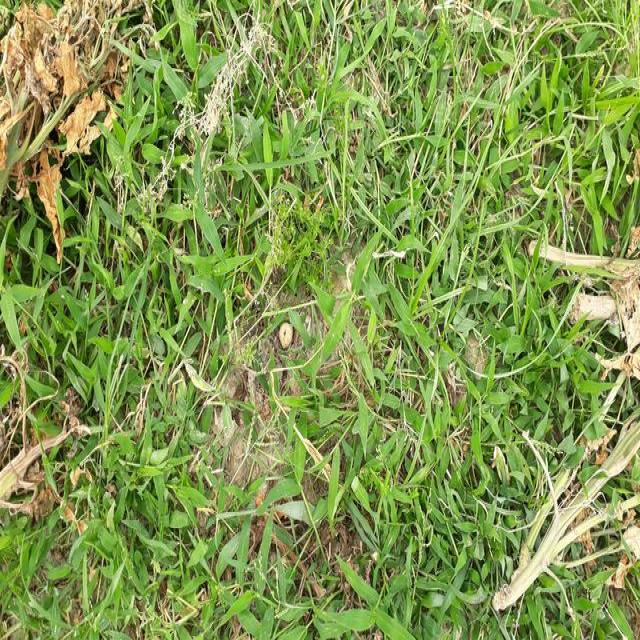weed: (260, 403, 479, 640), (445, 23, 640, 215)
